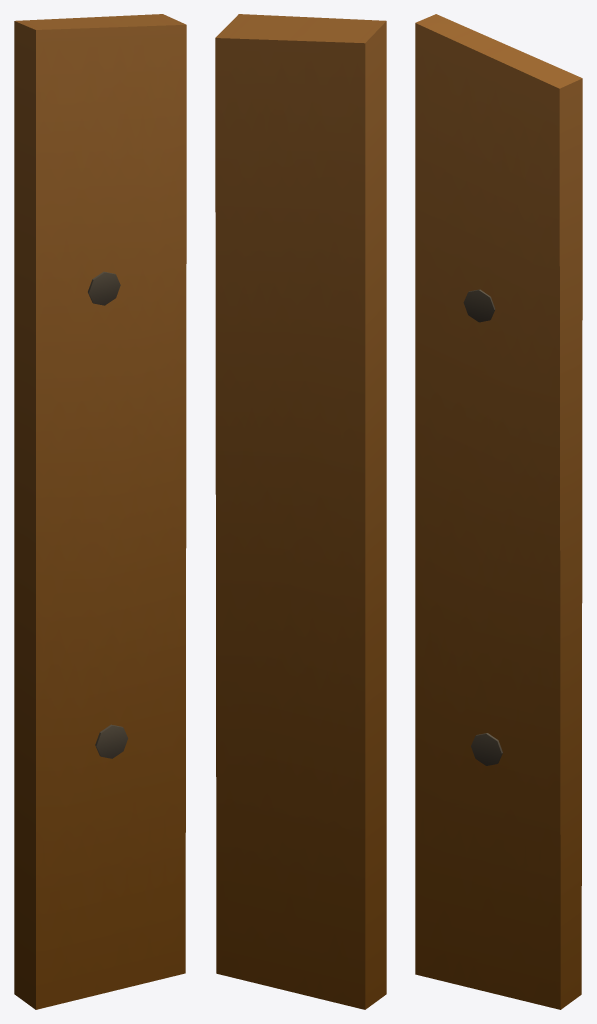
File: Fence_Bit_B.fbx
3 views of the same model, side by side, from view 1: azimuth 30°, elevation 25°; view 2: azimuth 150°, elevation 25°; view 3: azimuth 330°, elevation 25° (orthographic). The views are drawn at different scales.
Visible parts, largest first — view 1: Fence_Bit_B; view 2: Fence_Bit_B; view 3: Fence_Bit_B.
Boxes of the visible parts, x1,y1,x2,y2 form: Fence_Bit_B: (14,14,186,1009); Fence_Bit_B: (215,14,386,1009); Fence_Bit_B: (415,14,582,1009).
Bounding box in the file's own units: 16 × 100 × 4.51.
